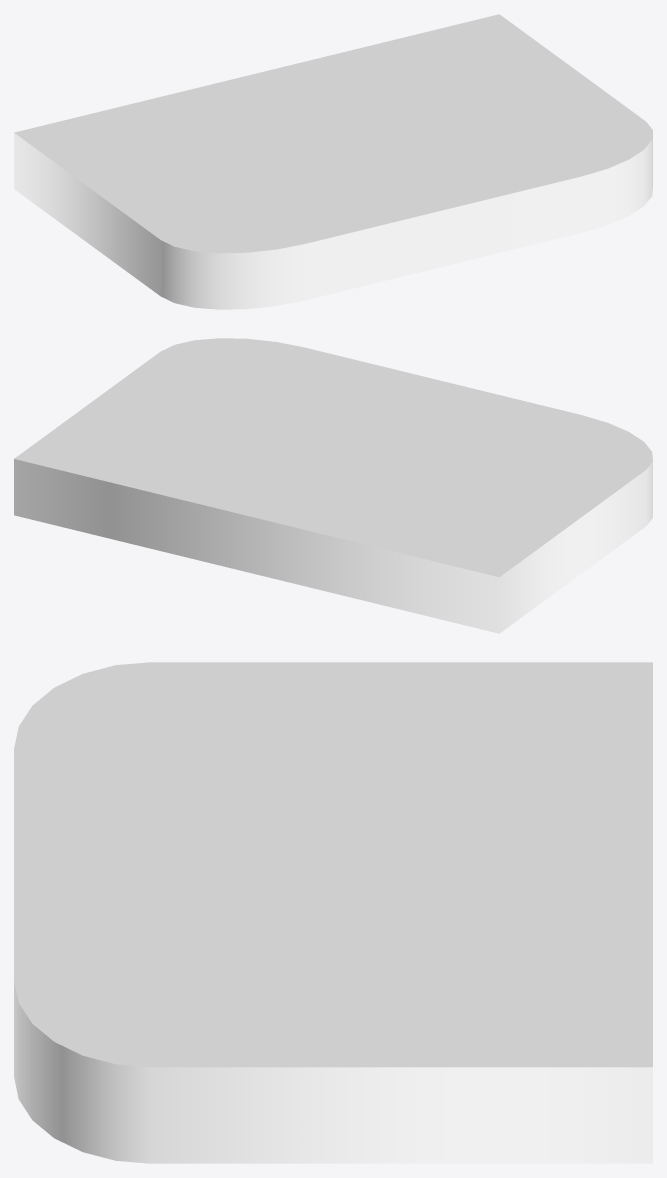
The model's file is StageRectangularLight.glb.
3 renders of one model, top to bottom at view 1: azimuth 30°, elevation 25°; view 2: azimuth 150°, elevation 25°; view 3: azimuth 270°, elevation 25°, orthographic. The views are drawn at different scales.
Parts seen in each view (by area): view 1: StageRectangularLight; view 2: StageRectangularLight; view 3: StageRectangularLight.
Boxes of the visible parts, x1,y1,x2,y2 form: StageRectangularLight: (14,14,652,309); StageRectangularLight: (14,338,652,633); StageRectangularLight: (14,662,652,1163).
Bounding box in the file's own units: 9 × 1 × 6.
1 material, 1 textured.
